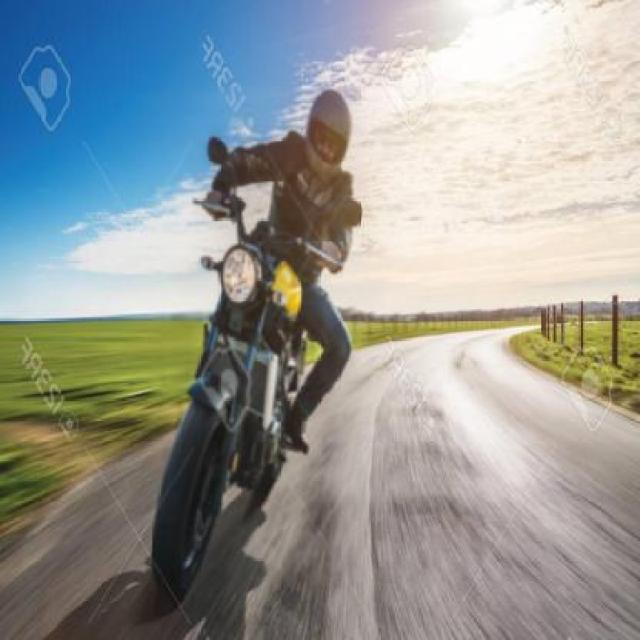helmet: (291, 92, 359, 180)
motorcycle: (156, 90, 379, 607)
